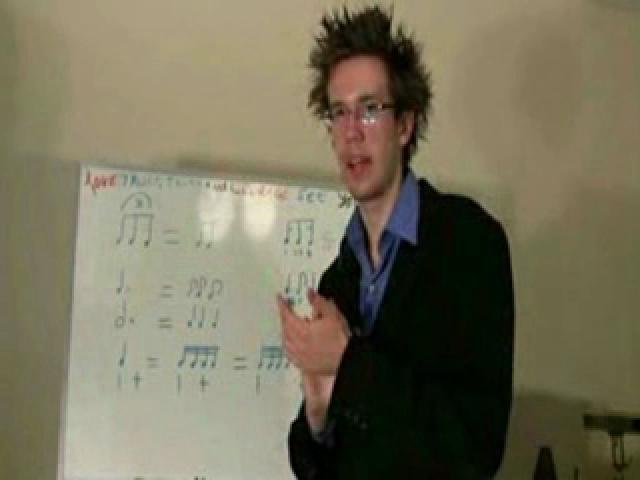F: (274, 3, 518, 478)
